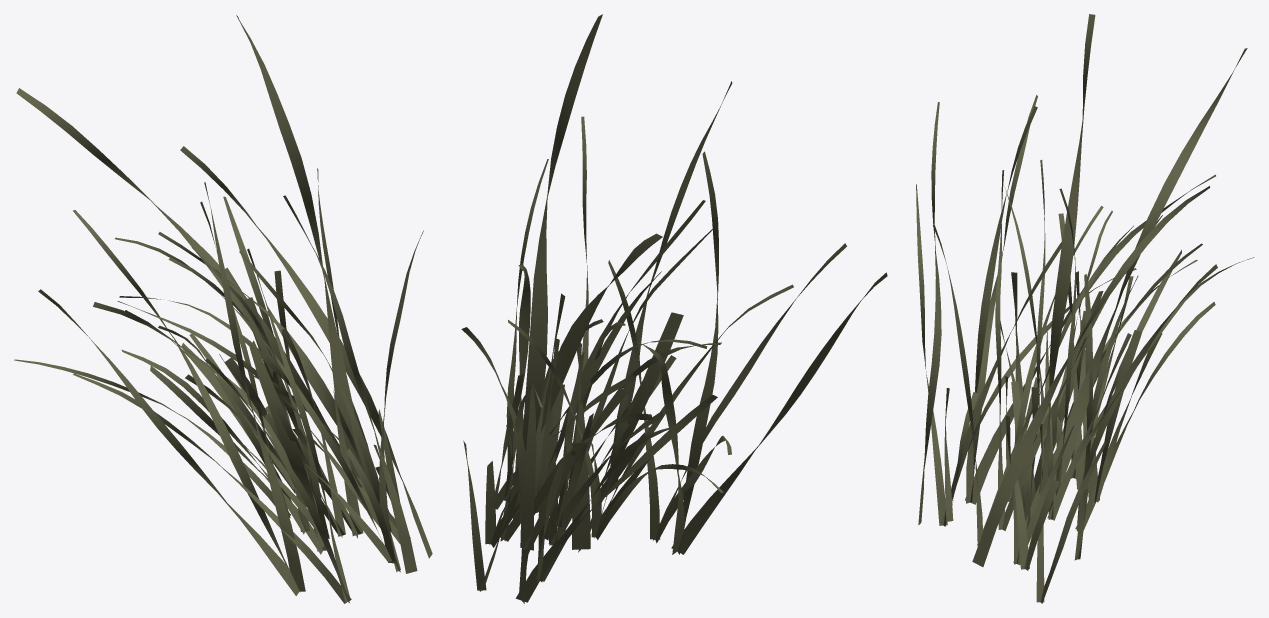
The model's file is Grasstry2.fbx.
The picture shows the model from 3 angles, left to right: view 1: azimuth 30°, elevation 25°; view 2: azimuth 150°, elevation 25°; view 3: azimuth 270°, elevation 25°; orthographic projection. The views are drawn at different scales.
Visible parts, largest first — view 1: grassClump27Main; view 2: grassClump27Main; view 3: grassClump27Main.
Boxes of the visible parts, left/top/right/bottom form: grassClump27Main: left=14, top=15, right=432, bottom=603; grassClump27Main: left=461, top=14, right=887, bottom=603; grassClump27Main: left=916, top=14, right=1254, bottom=603.
Size of the model in its own units: 0.7971 by 1.18 by 0.6897.
